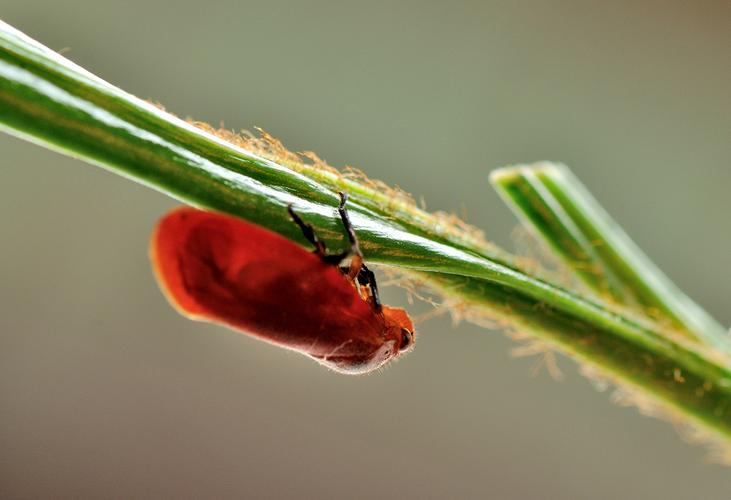Cicadellidae: (148, 204, 415, 375)
